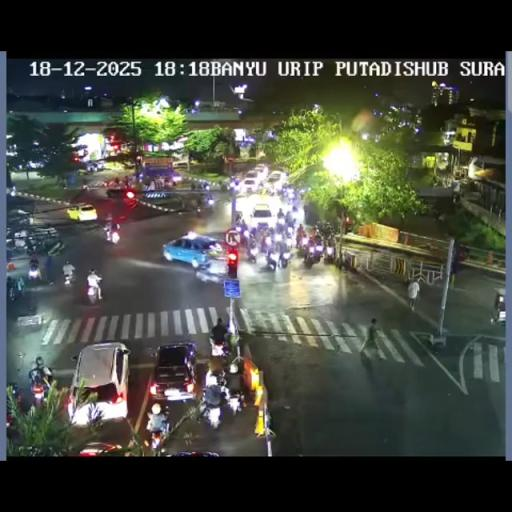Car: (68, 341, 130, 425), (149, 342, 198, 402), (162, 233, 230, 272), (139, 191, 187, 212), (140, 167, 181, 187), (75, 441, 125, 455), (66, 203, 97, 222), (250, 202, 273, 226), (106, 182, 136, 198), (238, 176, 260, 194), (266, 170, 286, 189), (86, 160, 106, 173), (253, 163, 268, 179)
Motorcycle: (238, 219, 300, 269), (28, 369, 51, 407), (190, 178, 215, 210), (147, 422, 169, 454), (6, 385, 22, 428), (204, 366, 227, 392), (202, 400, 222, 429), (225, 385, 243, 416), (6, 276, 24, 302), (86, 275, 102, 304), (314, 219, 336, 238), (304, 242, 321, 266), (210, 336, 228, 358), (46, 239, 66, 257), (62, 267, 76, 288), (323, 240, 336, 262), (28, 264, 42, 284), (490, 306, 504, 326), (278, 246, 290, 269), (104, 228, 119, 245), (279, 198, 293, 216), (247, 238, 258, 260), (263, 410, 274, 432), (25, 236, 37, 255), (290, 208, 302, 226), (266, 253, 277, 270), (238, 226, 250, 241), (261, 235, 271, 252), (6, 244, 15, 262), (295, 233, 304, 249), (276, 218, 286, 232), (284, 224, 294, 238), (234, 210, 244, 224), (219, 180, 230, 192), (29, 252, 38, 266), (194, 204, 202, 218), (314, 232, 322, 246), (267, 185, 276, 196), (206, 195, 214, 206), (298, 189, 306, 200), (125, 176, 132, 188), (82, 180, 88, 191), (260, 186, 267, 195), (204, 181, 210, 190), (190, 181, 196, 190), (102, 179, 108, 188)
